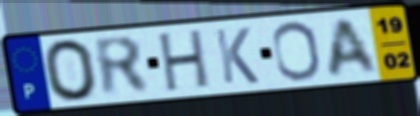A: (326, 15, 381, 79)
H: (157, 27, 212, 95)
K: (212, 26, 262, 86)
O: (40, 37, 101, 104), (269, 19, 324, 83)
R: (90, 35, 154, 100)
